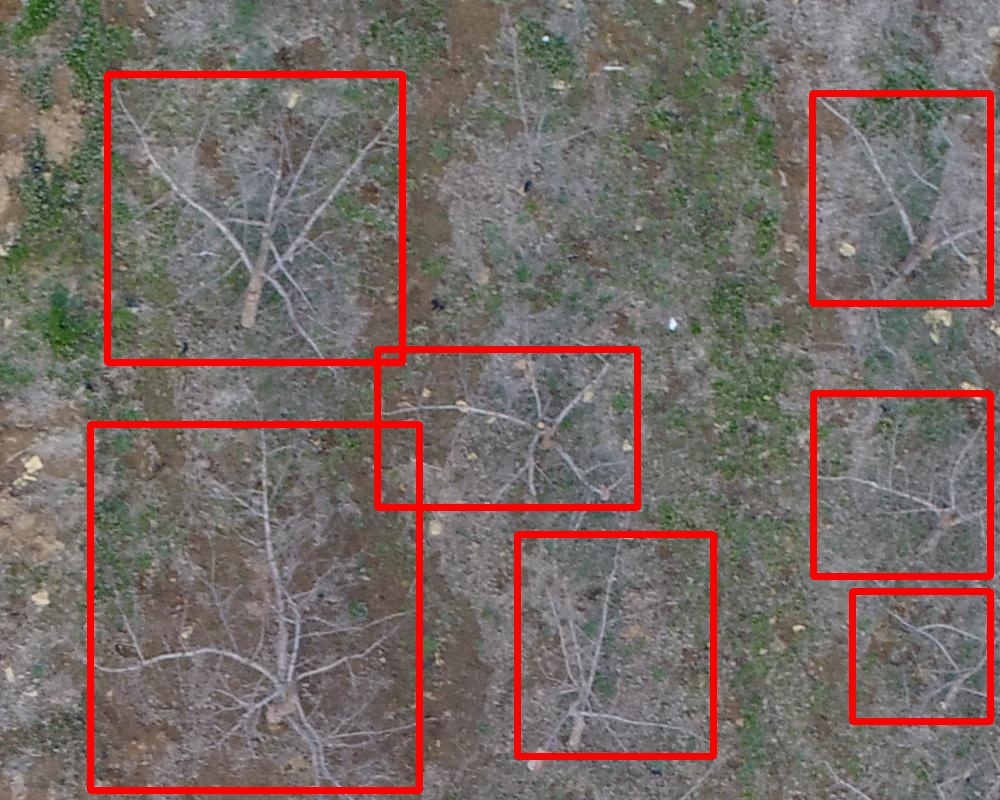apple: (90, 424, 419, 790), (107, 74, 402, 362), (517, 534, 713, 756), (377, 349, 637, 507), (812, 93, 990, 303), (813, 393, 990, 576), (852, 591, 990, 721)
